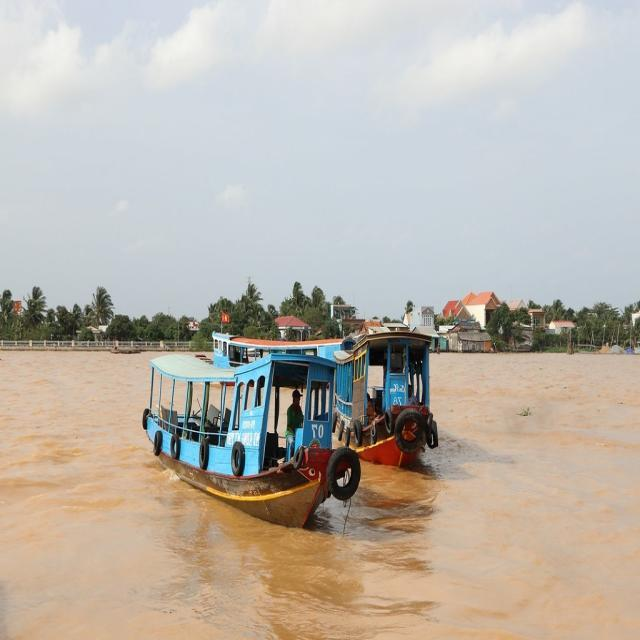Hyacinth: (503, 406, 542, 422)
boat: (134, 349, 356, 531), (328, 325, 442, 469), (105, 344, 146, 358)
